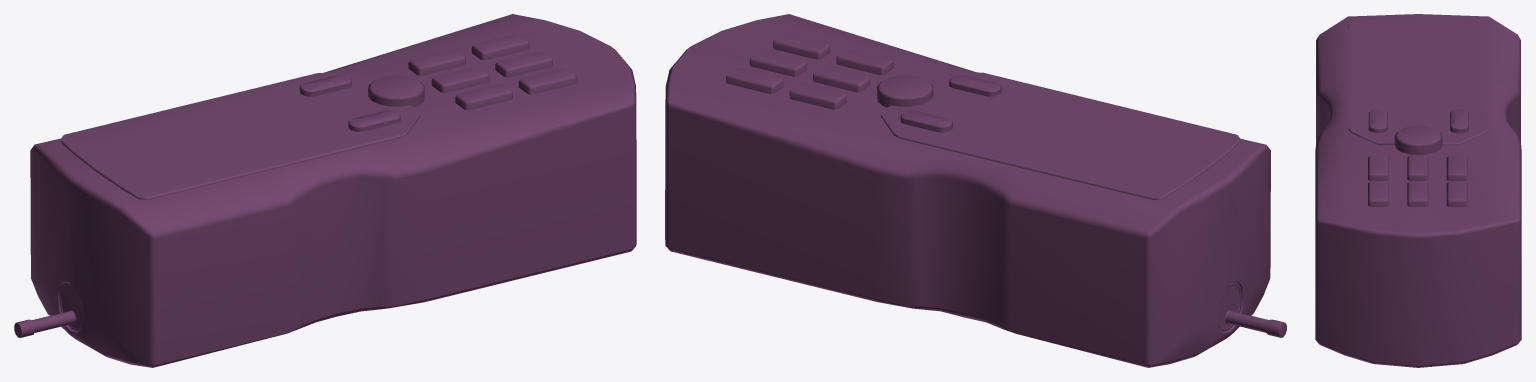
3 views of the same model, side by side, from view 1: azimuth 30°, elevation 25°; view 2: azimuth 150°, elevation 25°; view 3: azimuth 270°, elevation 25° (orthographic). The views are drawn at different scales.
Parts seen in each view (by area): view 1: a1_low, a2_low, a4_low, a3_low, a5_low, pasted__pCylinder4; view 2: a1_low, a2_low, a4_low, a3_low, a5_low, pasted__pCylinder4; view 3: a1_low, a2_low, a4_low, a3_low.
Boxes of the visible parts, x1=… form: a1_low: x1=30, y1=14, x2=636, y2=367; a2_low: x1=61, y1=72, x2=420, y2=199; a4_low: x1=408, y1=33, x2=576, y2=110; a3_low: x1=299, y1=74, x2=424, y2=131; a5_low: x1=14, y1=310, x2=76, y2=337; pasted__pCylinder4: x1=59, y1=282, x2=84, y2=331; a1_low: x1=665, y1=14, x2=1270, y2=367; a2_low: x1=880, y1=72, x2=1240, y2=199; a4_low: x1=726, y1=33, x2=893, y2=109; a3_low: x1=876, y1=75, x2=1001, y2=132; a5_low: x1=1225, y1=310, x2=1286, y2=337; pasted__pCylinder4: x1=1217, y1=282, x2=1242, y2=331; a1_low: x1=1315, y1=14, x2=1521, y2=367; a2_low: x1=1348, y1=19, x2=1489, y2=145; a4_low: x1=1368, y1=155, x2=1467, y2=206; a3_low: x1=1368, y1=109, x2=1468, y2=154.
Size of the model in its own units: 0.1544 by 0.0431 by 0.0551.
